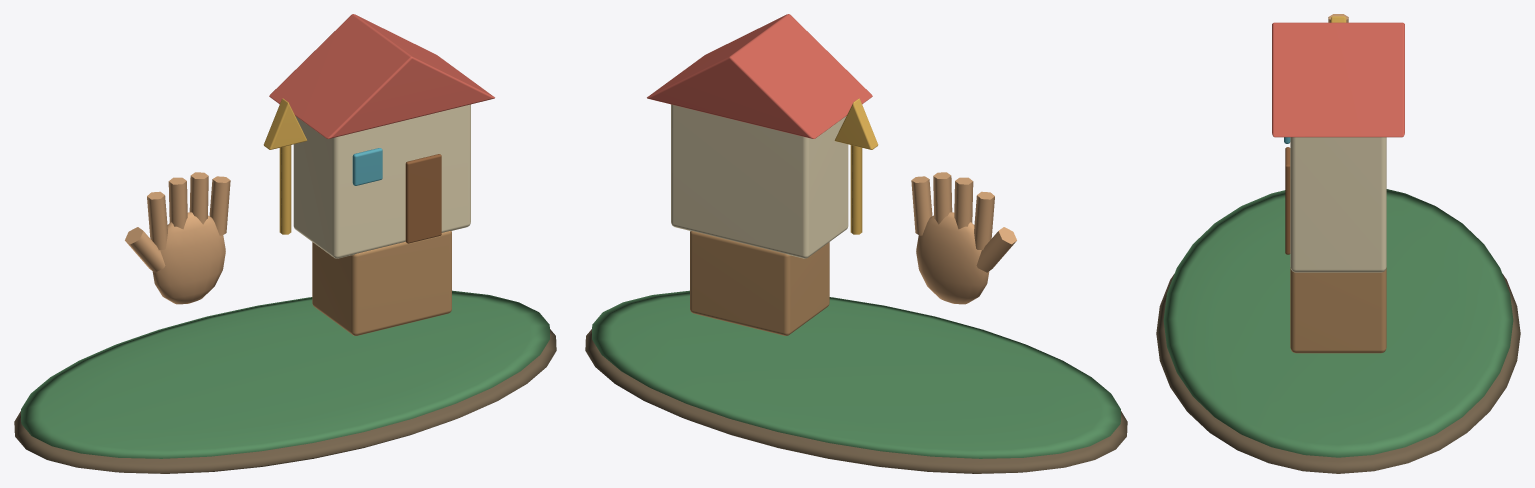
File: complete-second-lifting-high.glb
The picture shows the model from 3 angles, left to right: view 1: azimuth 30°, elevation 25°; view 2: azimuth 150°, elevation 25°; view 3: azimuth 270°, elevation 25°; orthographic projection. The views are drawn at different scales.
Visible parts, largest first — view 1: complete-second-lifting-high_surface_01, complete-second-lifting-high_surface_03, complete-second-lifting-high_surface_04, complete-second-lifting-high_surface_07, complete-second-lifting-high_surface_02, complete-second-lifting-high_surface_00, complete-second-lifting-high_surface_05, complete-second-lifting-high_surface_08, complete-second-lifting-high_surface_06; view 2: complete-second-lifting-high_surface_01, complete-second-lifting-high_surface_03, complete-second-lifting-high_surface_04, complete-second-lifting-high_surface_07, complete-second-lifting-high_surface_02, complete-second-lifting-high_surface_00, complete-second-lifting-high_surface_08; view 3: complete-second-lifting-high_surface_01, complete-second-lifting-high_surface_04, complete-second-lifting-high_surface_03, complete-second-lifting-high_surface_07, complete-second-lifting-high_surface_00, complete-second-lifting-high_surface_05.
Boxes of the visible parts, bbox=[...] form: complete-second-lifting-high_surface_01: bbox=[21, 290, 549, 458]; complete-second-lifting-high_surface_03: bbox=[293, 104, 470, 258]; complete-second-lifting-high_surface_04: bbox=[269, 14, 494, 138]; complete-second-lifting-high_surface_07: bbox=[312, 231, 451, 335]; complete-second-lifting-high_surface_02: bbox=[125, 172, 230, 304]; complete-second-lifting-high_surface_00: bbox=[14, 329, 556, 473]; complete-second-lifting-high_surface_05: bbox=[405, 154, 441, 243]; complete-second-lifting-high_surface_08: bbox=[263, 98, 307, 234]; complete-second-lifting-high_surface_06: bbox=[352, 148, 382, 185]; complete-second-lifting-high_surface_01: bbox=[592, 290, 1120, 458]; complete-second-lifting-high_surface_03: bbox=[671, 104, 848, 258]; complete-second-lifting-high_surface_04: bbox=[647, 14, 872, 138]; complete-second-lifting-high_surface_07: bbox=[690, 231, 829, 335]; complete-second-lifting-high_surface_02: bbox=[911, 172, 1016, 304]; complete-second-lifting-high_surface_00: bbox=[585, 329, 1127, 473]; complete-second-lifting-high_surface_08: bbox=[834, 98, 878, 234]; complete-second-lifting-high_surface_01: bbox=[1163, 189, 1513, 457]; complete-second-lifting-high_surface_04: bbox=[1272, 22, 1404, 137]; complete-second-lifting-high_surface_03: bbox=[1290, 137, 1386, 272]; complete-second-lifting-high_surface_07: bbox=[1290, 267, 1386, 353]; complete-second-lifting-high_surface_00: bbox=[1156, 274, 1520, 473]; complete-second-lifting-high_surface_05: bbox=[1285, 147, 1290, 254].
Bounding box in the file's own units: 4.56 × 2.88 × 2.5.
